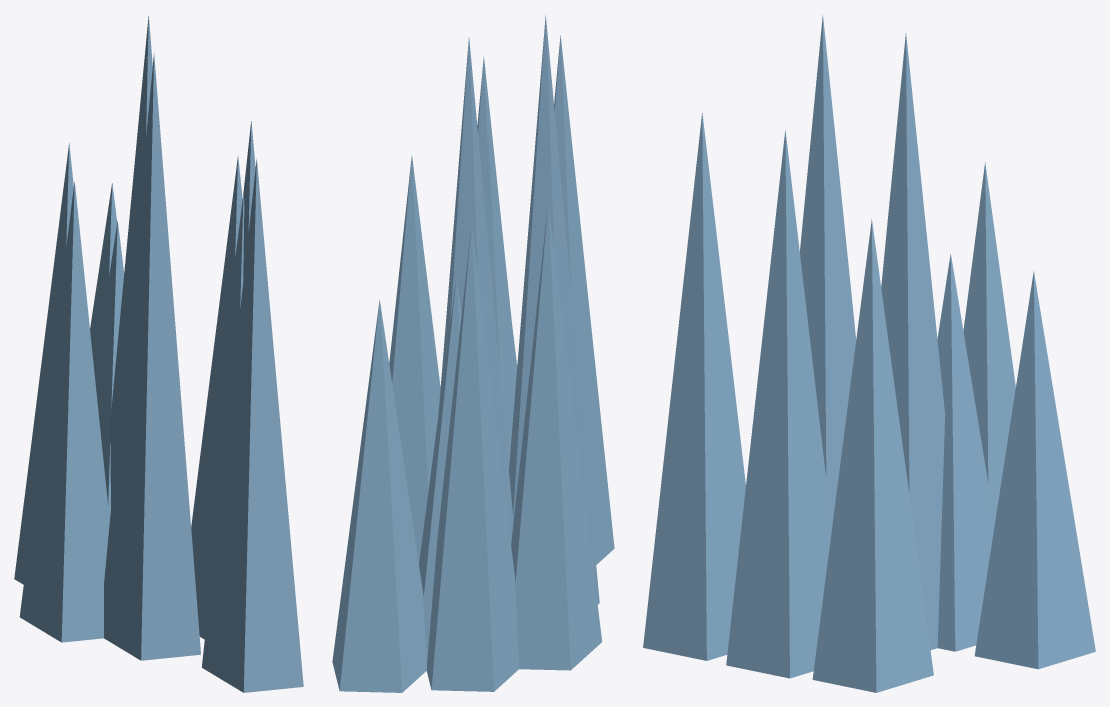
The model's file is pinchos hielo.gltf.
3 views of the same model, side by side, from view 1: azimuth 30°, elevation 25°; view 2: azimuth 150°, elevation 25°; view 3: azimuth 270°, elevation 25° (orthographic). The views are drawn at different scales.
Visible parts, largest first — view 1: cone (×10); view 2: cone (×10); view 3: cone (×8).
Part boxes in pixels (<box>): cone (×10): <box>14,15,303,692</box>; cone (×10): <box>332,15,614,692</box>; cone (×8): <box>643,15,1095,692</box>.
Size of the model in its own units: 0.4137 by 1 by 0.6811.
1 material, 1 textured.
